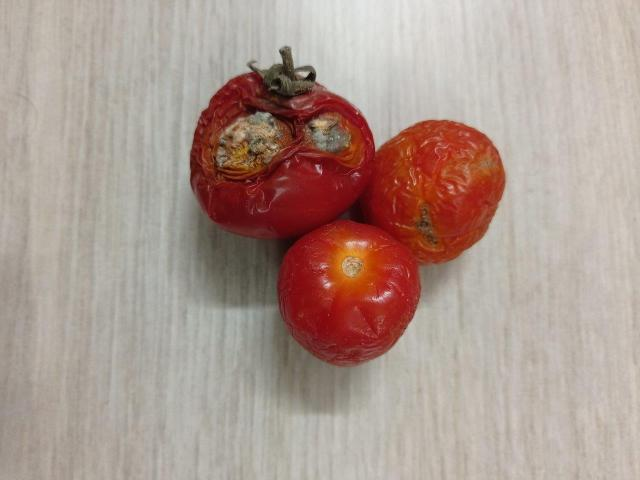defect: (185, 46, 370, 243), (364, 116, 505, 265)
